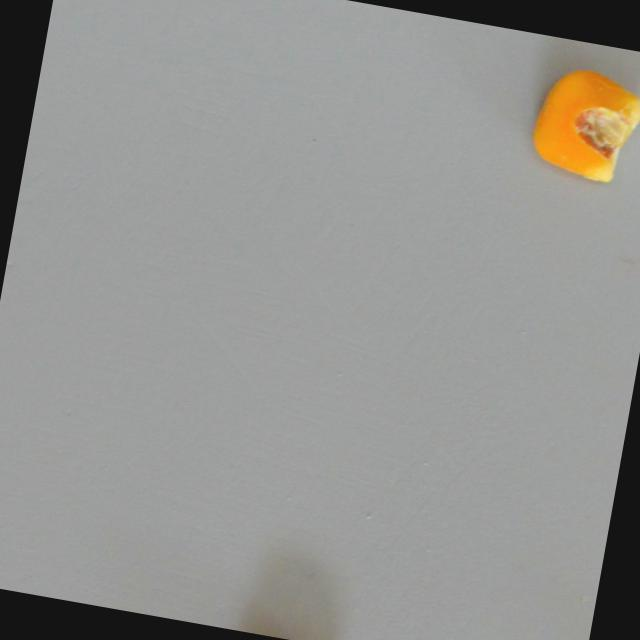dañado: (520, 56, 640, 191)
